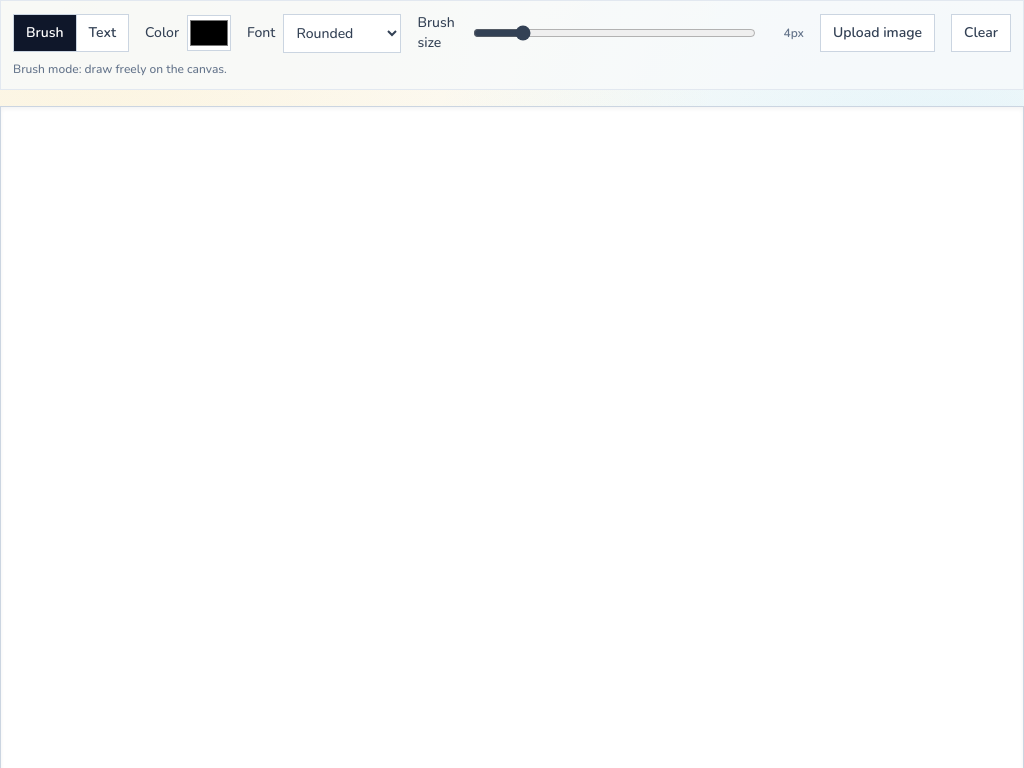
DrawingBoard text tool › still supports click-to-set updates through change events
Set the slider labelled "Brush size" to "6" at (551, 33), box [473,25,756,41]
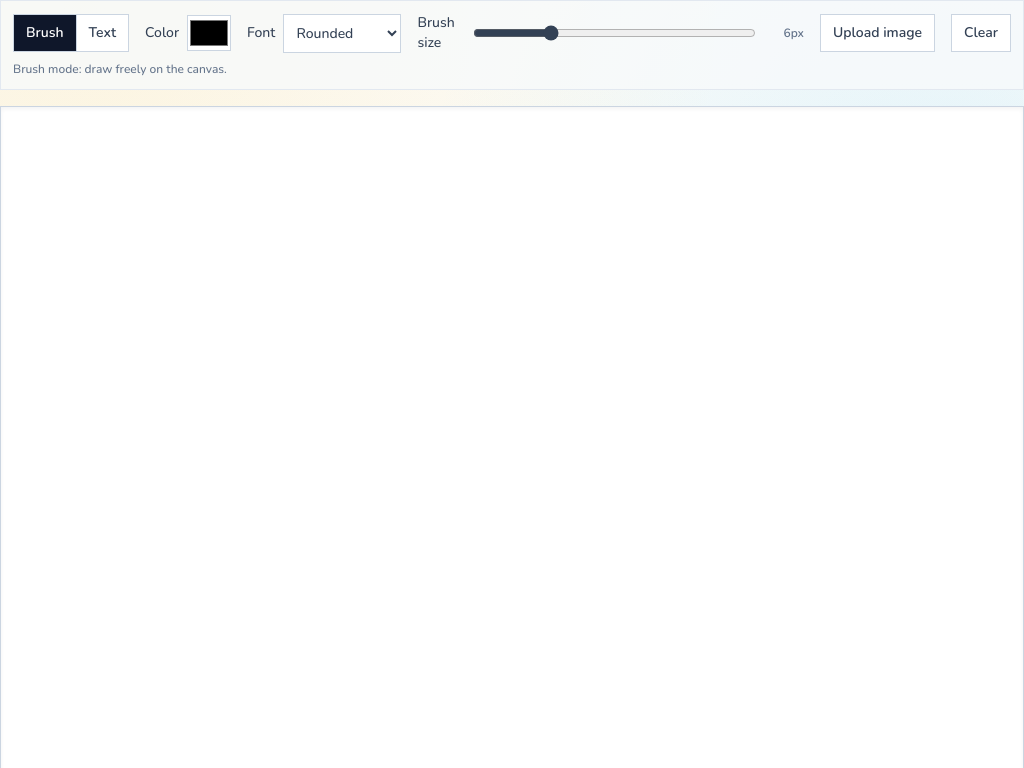
Result: the text "6px" is shown at [783,25,804,41]
